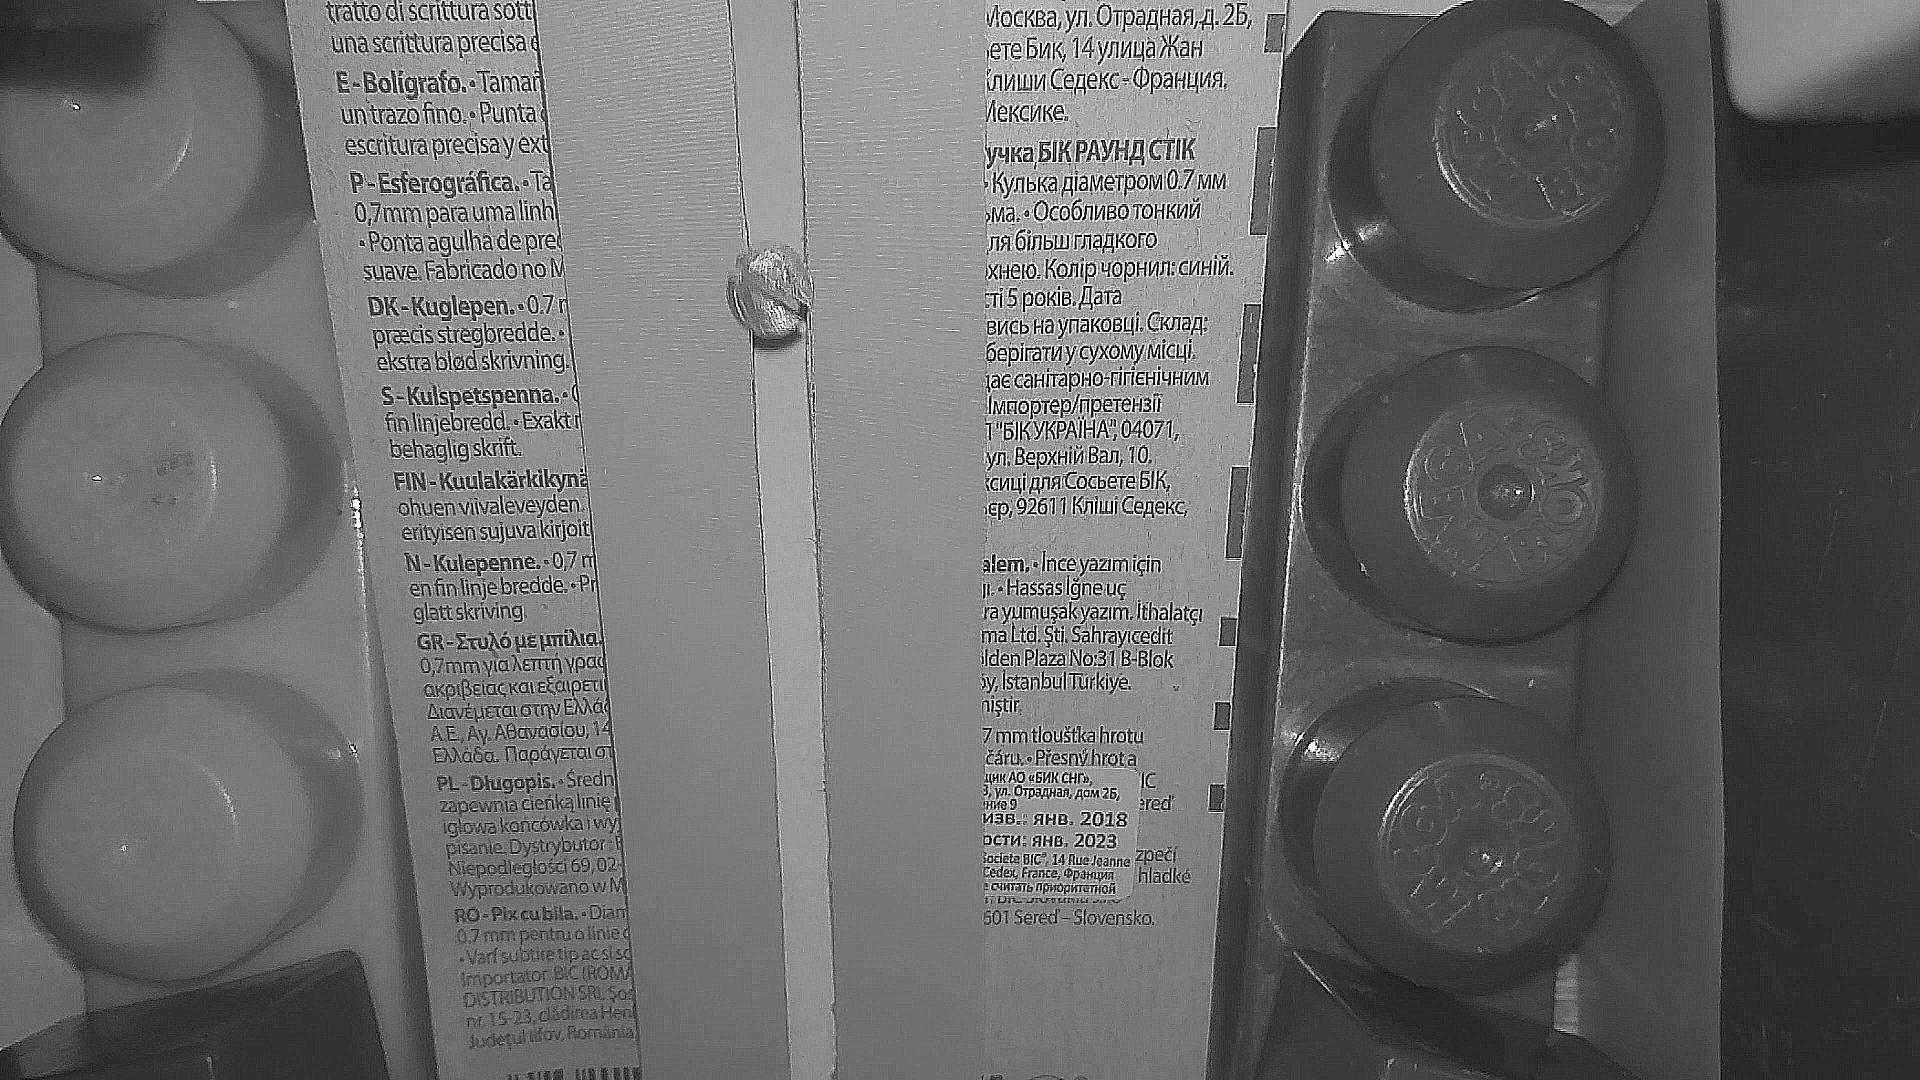i: (727, 247, 812, 342)
